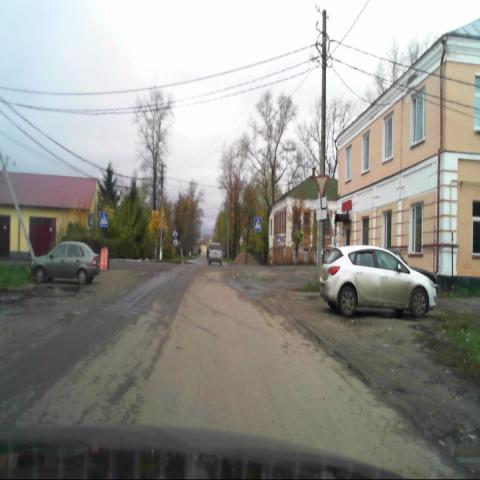2_4: (315, 175, 328, 196)
